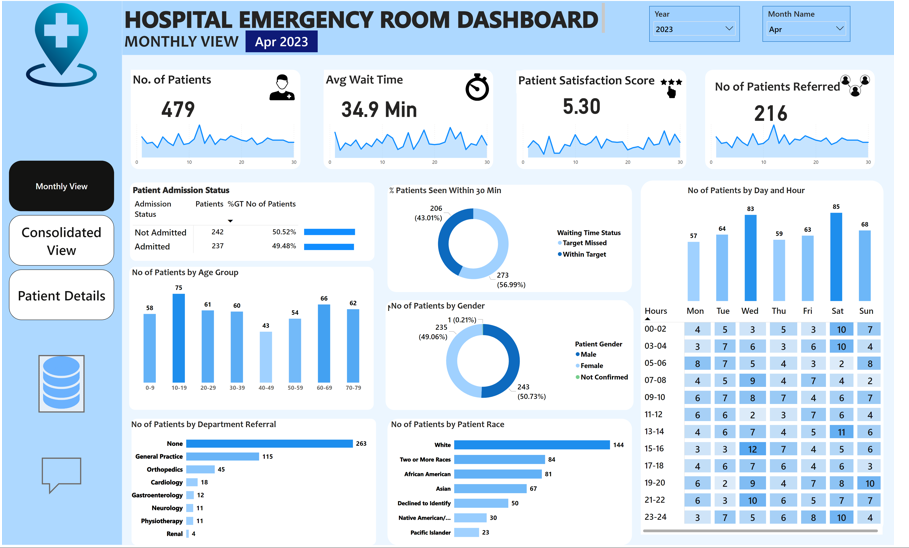

The page's visual inventory and layout, read from the dashboard file:
{"tool":"powerbi","page":{"name":"Monthly View","canvas":[2300,1400],"ordinal":0},"visuals":[{"type":"shape","box":[329.8,466.7,630.4,201.9],"z":0},{"type":"shape","box":[829.4,177.2,437.5,255.8],"z":1000},{"type":"shape","box":[332.1,177.2,437.5,255.8],"z":2000},{"type":"shape","box":[0,0,309.4,1399.4],"z":3000},{"type":"shape","box":[309.6,0,1990.1,139.1],"z":4000},{"type":"textbox","box":[309.6,0,1249.7,87.5],"z":5000},{"type":"textbox","box":[309.6,71.8,350,67.3],"z":6000},{"type":"card","fields":{"Values":["Hospital ER_Data.No of Patients"]},"box":[359,222.1,190.7,98.7],"z":7000},{"type":"slicer","fields":{"Values":["Date Table.Year"]},"box":[1669.2,13.5,233.3,92],"z":8000},{"type":"slicer","fields":{"Values":["Date Table.Month Name"]},"box":[1960.9,13.5,226.6,92],"z":9000},{"type":"textbox","box":[332.1,177.2,237.8,60.6],"z":10000},{"type":"areaChart","fields":{"Category":["Date Table.Date.Variation.Date Hierarchy.Day"],"Y":["Hospital ER_Data.No of Patients"]},"box":[332.1,305.1,435.3,127.9],"z":11000},{"type":"card","fields":{"Values":["Min(Date Table.Month & Year)"]},"box":[628.2,76.3,186.2,56.1],"z":12000},{"type":"card","fields":{"Values":["Date Table.Avg Wait Time"]},"box":[863.8,222.1,217.6,98.7],"z":13000},{"type":"textbox","box":[830.1,177.2,233.3,60.6],"z":14000},{"type":"areaChart","fields":{"Y":["Avg(Hospital ER_Data.Patient Waittime)"],"Category":["Hospital ER_Data.Patient Admission Date.Variation.Date Hierarchy.Day"]},"box":[830.1,305.1,435.3,127.9],"z":15000},{"type":"shape","box":[1812.8,177.2,437.5,255.8],"z":16000},{"type":"shape","box":[1326.7,177.2,437.5,255.8],"z":17000},{"type":"areaChart","fields":{"Category":["Hospital ER_Data.Patient Admission Date.Variation.Date Hierarchy.Day"],"Y":["Sum(Hospital ER_Data.Patient Satisfaction Score)"]},"box":[1328.2,305.1,435.3,127.9],"z":18000},{"type":"card","fields":{"Values":["Date Table.Satisfaction Score"]},"box":[1377.6,222.1,231.1,83],"z":19000},{"type":"textbox","box":[1326,179.5,417.3,58.3],"z":20000},{"type":"textbox","box":[1833,177.2,354.5,87.5],"z":21000},{"type":"card","fields":{"Values":["Date Table.No of Patient Referred"]},"box":[1866.7,240.1,231.1,83],"z":22000},{"type":"areaChart","fields":{"Category":["Hospital ER_Data.Patient Admission Date.Variation.Date Hierarchy.Day"],"Y":["Hospital ER_Data.No of Patients"]},"box":[1812.8,305.1,435.3,127.9],"z":23000},{"type":"pivotTable","title":"Patient Admission Status","fields":{"Rows":["Hospital ER_Data.Admission Status"],"Values":["Hospital ER_Data.No of Patients1","Hospital ER_Data.No of Patients"]},"box":[332.1,471.2,628.2,197.4],"z":24000},{"type":"barChart","fields":{"Category":["Hospital ER_Data.Admission Status"],"Y":["Hospital ER_Data.No of Patients"]},"box":[774,554.2,172.8,114.4],"z":25000},{"type":"shape","box":[327.6,684.3,630.4,367.9],"z":26000},{"type":"clusteredColumnChart","fields":{"Y":["Hospital ER_Data.No of Patients"],"Category":["Hospital ER_Data.Age Group"]},"box":[329.8,684.3,628.2,332.1],"z":27000},{"type":"shape","box":[334.3,1074.7,630.4,325.3],"z":28000},{"type":"clusteredBarChart","fields":{"Category":["Hospital ER_Data.Department Referral"],"Y":["Hospital ER_Data.No of Patients"]},"box":[327.6,1074.7,619.2,325.3],"z":29000},{"type":"shape","box":[993.9,473.4,630.4,276],"z":30000},{"type":"donutChart","title":"%  Patients Seen Within 30 Min","fields":{"Y":["Hospital ER_Data.No of Patients"],"Category":["Hospital ER_Data.Waiting Time Status"]},"box":[993.9,473.4,630.4,276],"z":31000},{"type":"shape","box":[989.4,769.6,630.4,282.7],"z":32000},{"type":"donutChart","title":"No of Patients by Gender","fields":{"Y":["Hospital ER_Data.No of Patients"],"Category":["Hospital ER_Data.Patient Gender"]},"box":[989.4,776.3,630.4,269.2],"z":33000},{"type":"shape","box":[998.4,778.5,630.4,273.7],"z":34000},{"type":"donutChart","title":"No of Patients by Gender","fields":{"Y":["Hospital ER_Data.No of Patients"],"Category":["Hospital ER_Data.Patient Gender"]},"box":[998.4,769.6,630.4,284.9],"z":35000},{"type":"shape","box":[993.9,1074.7,630.4,325.3],"z":36000},{"type":"clusteredBarChart","fields":{"Y":["Hospital ER_Data.No of Patients"],"Category":["Hospital ER_Data.Patient Race"]},"box":[998.4,1074.7,619.2,325.3],"z":37000},{"type":"shape","box":[1646.8,462.2,626,910.9],"z":38000},{"type":"pivotTable","fields":{"Rows":["Hospital ER_Data.Waittime Interval"],"Columns":["Date Table.Day Name"],"Values":["Hospital ER_Data.No of Patients"]},"box":[1646.8,776.3,623.7,596.8],"z":39000},{"type":"columnChart","title":"No of Patients by Day and Hour ","fields":{"Category":["Date Table.Day Name"],"Y":["Hospital ER_Data.No of Patients"]},"box":[1763.5,473.4,484.6,305.1],"z":40000},{"type":"image","box":[684.3,184,76.3,76.3],"z":41000},{"type":"image","box":[1184.6,179.5,80.8,85.3],"z":42000},{"type":"image","box":[1689.4,179.5,74,92],"z":43000},{"type":"image","box":[2151.6,170.5,96.5,94.2],"z":44000},{"type":"image","box":[40.4,0,226.6,226.6],"z":45000},{"type":"pageNavigator","box":[20.2,338.8,271.5,410.6],"z":46000},{"type":"actionButton","box":[9,1164.4,136.9,148.1],"z":47000},{"type":"actionButton","box":[154.8,1164.4,118.9,148.1],"z":48000}]}

Visuals, with their boxes in screenshot pixels (x1, y1, x2, y2), scaled from the page's 2300x1400 canvas onto the 909x548 screenshot:
shape: 130:183:379:262
shape: 328:69:501:169
shape: 131:69:304:169
shape: 0:0:122:547
shape: 122:0:908:54
textbox: 122:0:616:34
textbox: 122:28:261:54
card - Hospital ER_Data.No of Patients: 142:87:217:126
slicer - Date Table.Year: 660:5:752:41
slicer - Date Table.Month Name: 775:5:865:41
textbox: 131:69:225:93
areaChart - Date Table.Date.Variation.Date Hierarchy.Day x Hospital ER_Data.No of Patients: 131:119:303:169
card - Min(Date Table.Month & Year): 248:30:322:52
card - Date Table.Avg Wait Time: 341:87:427:126
textbox: 328:69:420:93
areaChart - Avg(Hospital ER_Data.Patient Waittime) x Hospital ER_Data.Patient Admission Date.Variation.Date Hierarchy.Day: 328:119:500:169
shape: 716:69:889:169
shape: 524:69:697:169
areaChart - Hospital ER_Data.Patient Admission Date.Variation.Date Hierarchy.Day x Sum(Hospital ER_Data.Patient Satisfaction Score): 525:119:697:169
card - Date Table.Satisfaction Score: 544:87:636:119
textbox: 524:70:689:93
textbox: 724:69:865:104
card - Date Table.No of Patient Referred: 738:94:829:126
areaChart - Hospital ER_Data.Patient Admission Date.Variation.Date Hierarchy.Day x Hospital ER_Data.No of Patients: 716:119:888:169
"Patient Admission Status" pivotTable: 131:184:380:262
barChart - Hospital ER_Data.Admission Status x Hospital ER_Data.No of Patients: 306:217:374:262
shape: 129:268:379:412
clusteredColumnChart - Hospital ER_Data.No of Patients x Hospital ER_Data.Age Group: 130:268:379:398
shape: 132:421:381:547
clusteredBarChart - Hospital ER_Data.Department Referral x Hospital ER_Data.No of Patients: 129:421:374:547
shape: 393:185:642:293
"%  Patients Seen Within 30 Min" donutChart: 393:185:642:293
shape: 391:301:640:412
"No of Patients by Gender" donutChart: 391:304:640:409
shape: 395:305:644:412
"No of Patients by Gender" donutChart: 395:301:644:413
shape: 393:421:642:547
clusteredBarChart - Hospital ER_Data.No of Patients x Hospital ER_Data.Patient Race: 395:421:639:547
shape: 651:181:898:537
pivotTable - Hospital ER_Data.Waittime Interval x Date Table.Day Name: 651:304:897:537
"No of Patients by Day and Hour " columnChart: 697:185:888:305
image: 270:72:301:102
image: 468:70:500:104
image: 668:70:697:106
image: 850:67:888:104
image: 16:0:106:89
pageNavigator: 8:133:115:293
actionButton: 4:456:58:514
actionButton: 61:456:108:514
